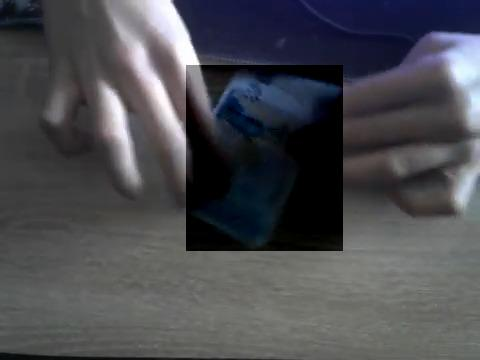20leva: (186, 65, 343, 251)
